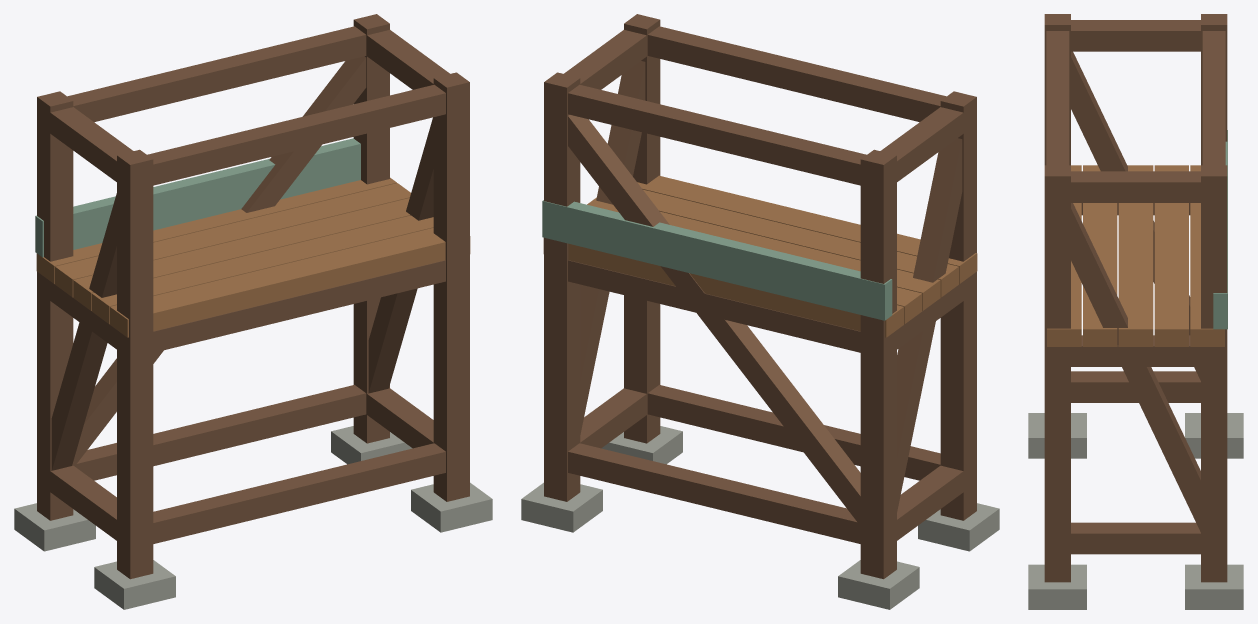
File: scaffold_bay.glb
3 renders of one model, left to right at view 1: azimuth 30°, elevation 25°; view 2: azimuth 150°, elevation 25°; view 3: azimuth 270°, elevation 25°, orthographic. The views are drawn at different scales.
Visible parts, largest first — view 1: scaffold_bay_Upright-col.001, scaffold_bay_Upright-col.003, scaffold_bay_Deck-col.004, scaffold_bay_Upright-col, scaffold_bay_Ledger-col.005, scaffold_bay_Ledger-col.003, scaffold_bay_Ledger-col.002, scaffold_bay_BackToeBoard-col, scaffold_bay_Ledger-col, scaffold_bay_Ledger-col.004, scaffold_bay_EndBrace-col, scaffold_bay_BackBrace-col (+15 smaller); view 2: scaffold_bay_BackToeBoard-col, scaffold_bay_Upright-col, scaffold_bay_BackBrace-col, scaffold_bay_Upright-col.002, scaffold_bay_Upright-col.001, scaffold_bay_Ledger-col.002, scaffold_bay_Ledger-col, scaffold_bay_Ledger-col.005, scaffold_bay_EndBrace-col, scaffold_bay_Upright-col.003, scaffold_bay_Ledger-col.001, scaffold_bay_Ledger-col.003 (+15 smaller); view 3: scaffold_bay_Upright-col.003, scaffold_bay_Upright-col.002, scaffold_bay_EndBrace-col.001, scaffold_bay_Deck-col.001, scaffold_bay_Transom-col.005, scaffold_bay_Deck-col.002, scaffold_bay_Transom-col.003, scaffold_bay_Transom-col.002, scaffold_bay_Transom-col.004, scaffold_bay_Ledger-col.002, scaffold_bay_Ledger-col.005, scaffold_bay_Deck-col.003 (+11 smaller).
Boxes of the visible parts, x1,y1,x2,y2 form: scaffold_bay_Upright-col.001: (117, 149, 153, 579); scaffold_bay_Upright-col.003: (433, 72, 469, 501); scaffold_bay_Deck-col.004: (110, 228, 470, 337); scaffold_bay_Upright-col: (37, 91, 73, 520); scaffold_bay_Ledger-col.005: (147, 84, 445, 185); scaffold_bay_Ledger-col.003: (153, 443, 445, 543); scaffold_bay_Ledger-col.002: (67, 26, 366, 122); scaffold_bay_BackToeBoard-col: (35, 138, 360, 257); scaffold_bay_Ledger-col: (73, 385, 366, 480); scaffold_bay_Ledger-col.004: (153, 260, 445, 352); scaffold_bay_EndBrace-col: (51, 193, 116, 470); scaffold_bay_BackBrace-col: (73, 56, 366, 464); scaffold_bay_BackToeBoard-col: (542, 200, 892, 320); scaffold_bay_Upright-col: (860, 149, 896, 579); scaffold_bay_BackBrace-col: (568, 115, 860, 525); scaffold_bay_Upright-col.002: (544, 72, 580, 501); scaffold_bay_Upright-col.001: (940, 91, 976, 520); scaffold_bay_Ledger-col.002: (568, 84, 895, 185); scaffold_bay_Ledger-col: (568, 443, 896, 543); scaffold_bay_Ledger-col.005: (647, 26, 966, 122); scaffold_bay_EndBrace-col: (897, 138, 962, 511); scaffold_bay_Upright-col.003: (624, 14, 660, 443); scaffold_bay_Ledger-col.001: (568, 260, 895, 352); scaffold_bay_Ledger-col.003: (647, 385, 966, 490); scaffold_bay_Upright-col.003: (1044, 165, 1070, 582); scaffold_bay_Upright-col.002: (1201, 165, 1227, 582); scaffold_bay_EndBrace-col.001: (1071, 203, 1200, 532); scaffold_bay_Deck-col.001: (1154, 165, 1188, 346); scaffold_bay_Transom-col.005: (1044, 171, 1227, 202); scaffold_bay_Deck-col.002: (1118, 165, 1153, 346); scaffold_bay_Transom-col.003: (1044, 522, 1226, 554); scaffold_bay_Transom-col.002: (1044, 20, 1227, 51); scaffold_bay_Transom-col.004: (1044, 335, 1227, 366); scaffold_bay_Ledger-col.002: (1202, 31, 1225, 202); scaffold_bay_Ledger-col.005: (1046, 31, 1069, 202); scaffold_bay_Deck-col.003: (1083, 165, 1117, 346).
Size of the model in its own units: 2.56 by 2.89 by 1.32.
